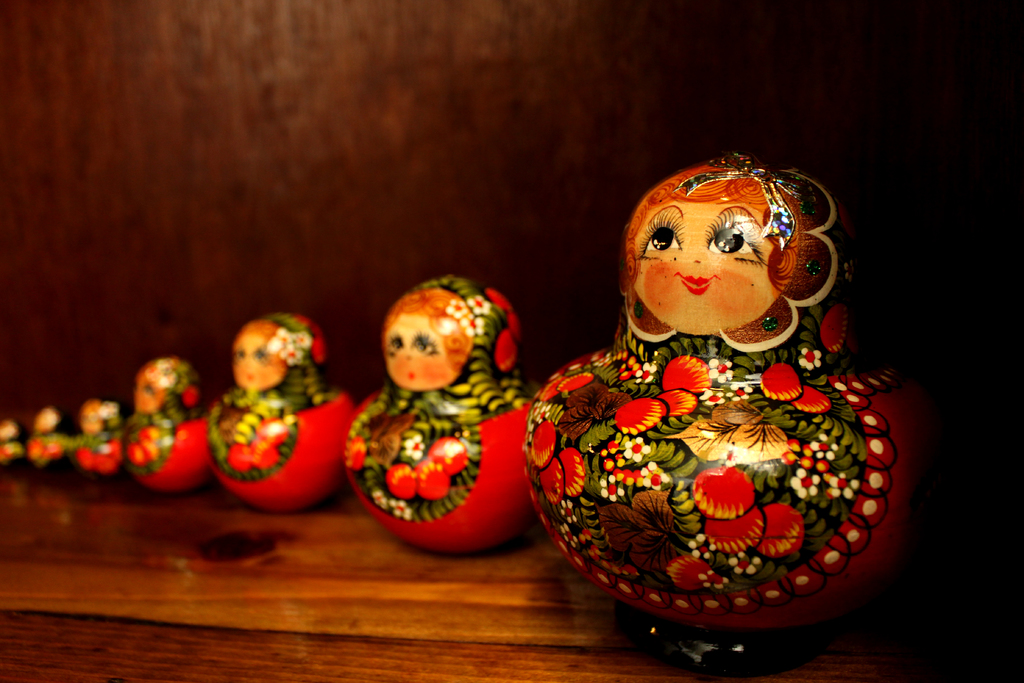Human-face: (634, 205, 768, 332), (385, 285, 474, 386), (234, 323, 291, 388), (133, 373, 161, 419), (24, 407, 53, 435), (83, 403, 101, 429)
